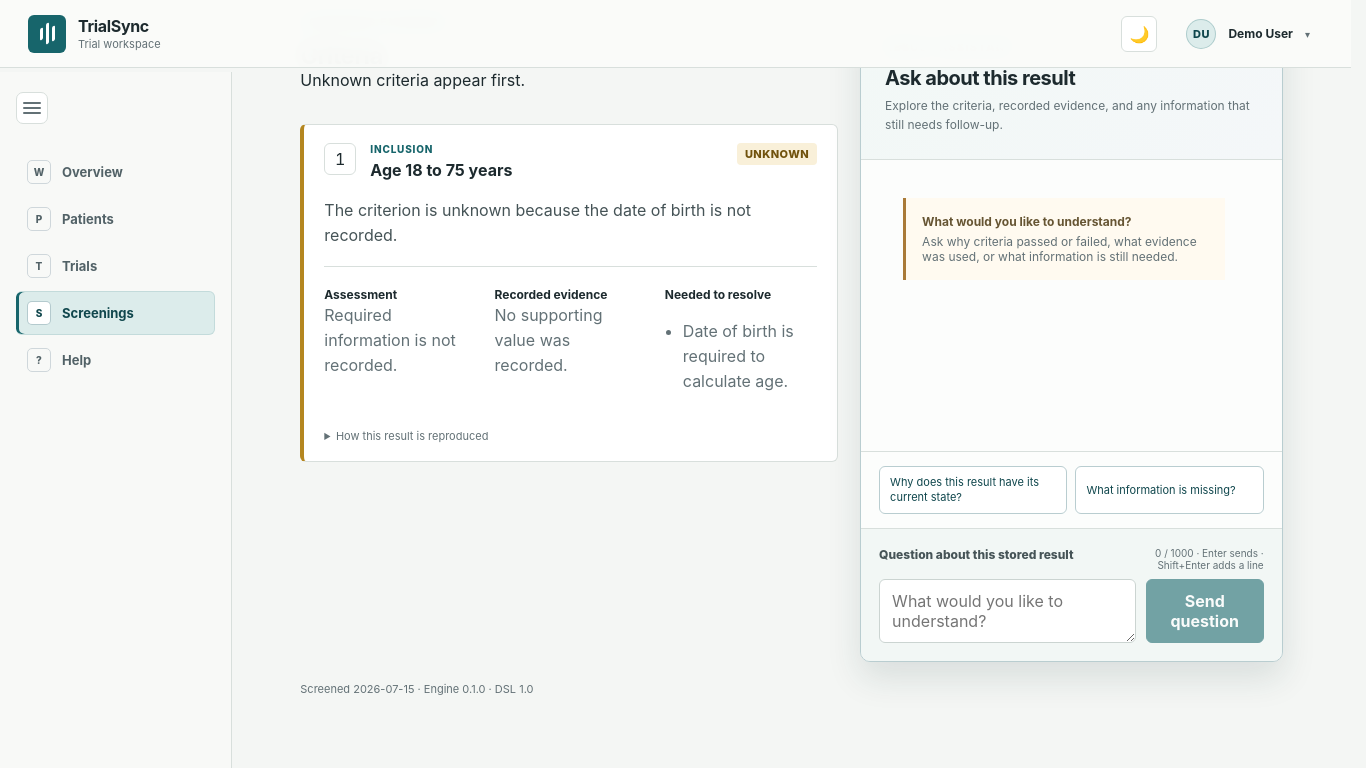
TrialSync Phase 5 screening workflow › preserves and explicitly retries a question after a confirmed no-save failure
(page scrolled)
Type "Explain the unknown criterion" into the text box labelled "Question about this stored result".
click(1007, 611); type("Explain the unknown criterion")  # box x1=879 y1=579 x2=1136 y2=643
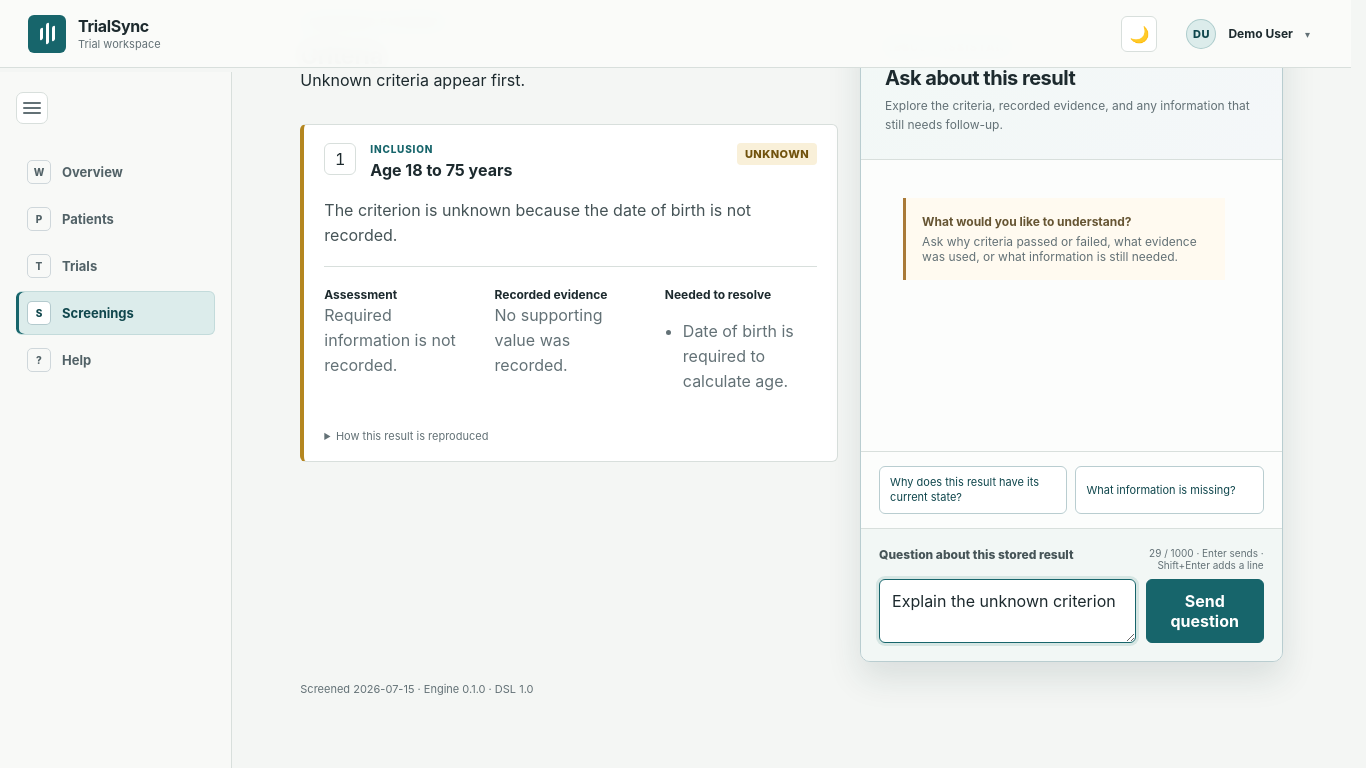
Click the button "Send question".
click(1205, 611)  # box x1=1146 y1=579 x2=1264 y2=643
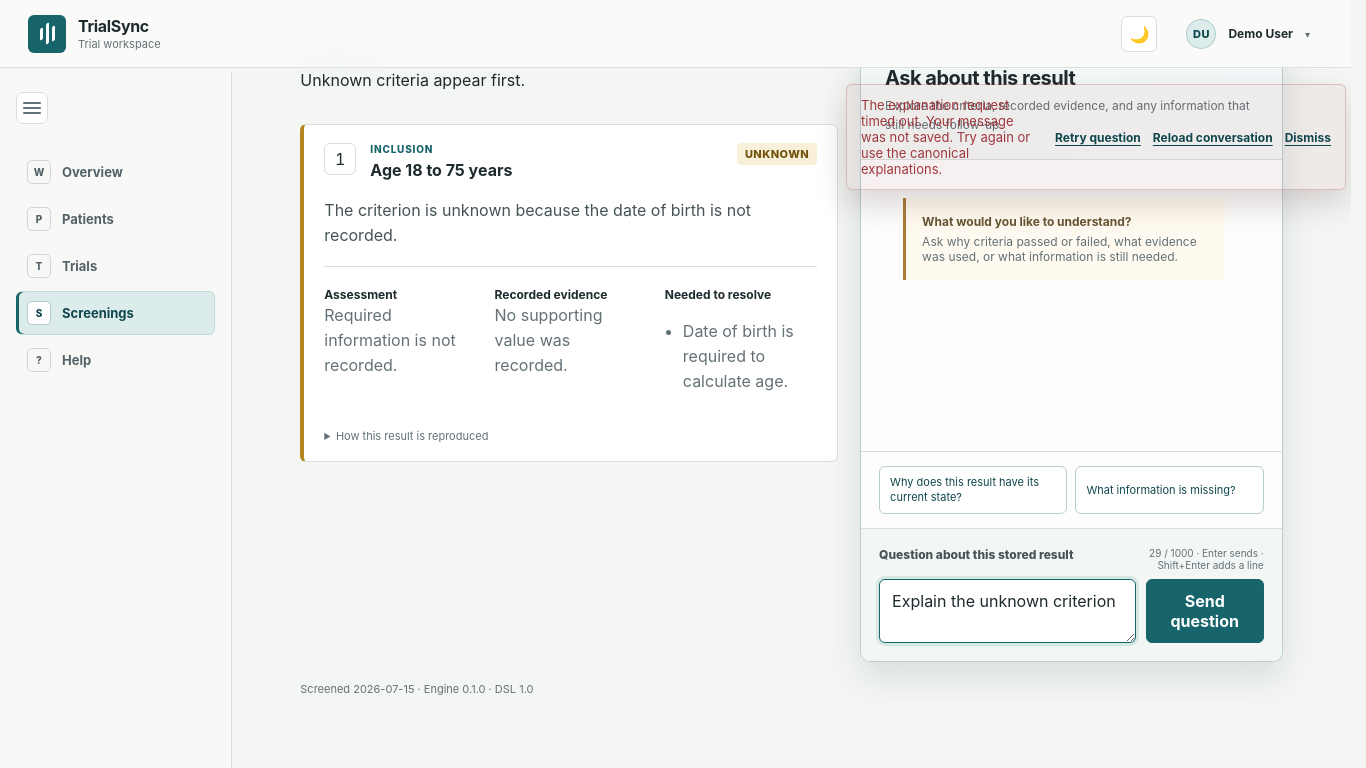
expect the message shows "timed out": met, box x1=861 y1=97 x2=1030 y2=177
Click the button "Retry question".
click(1098, 137)  # box x1=1055 y1=124 x2=1141 y2=150
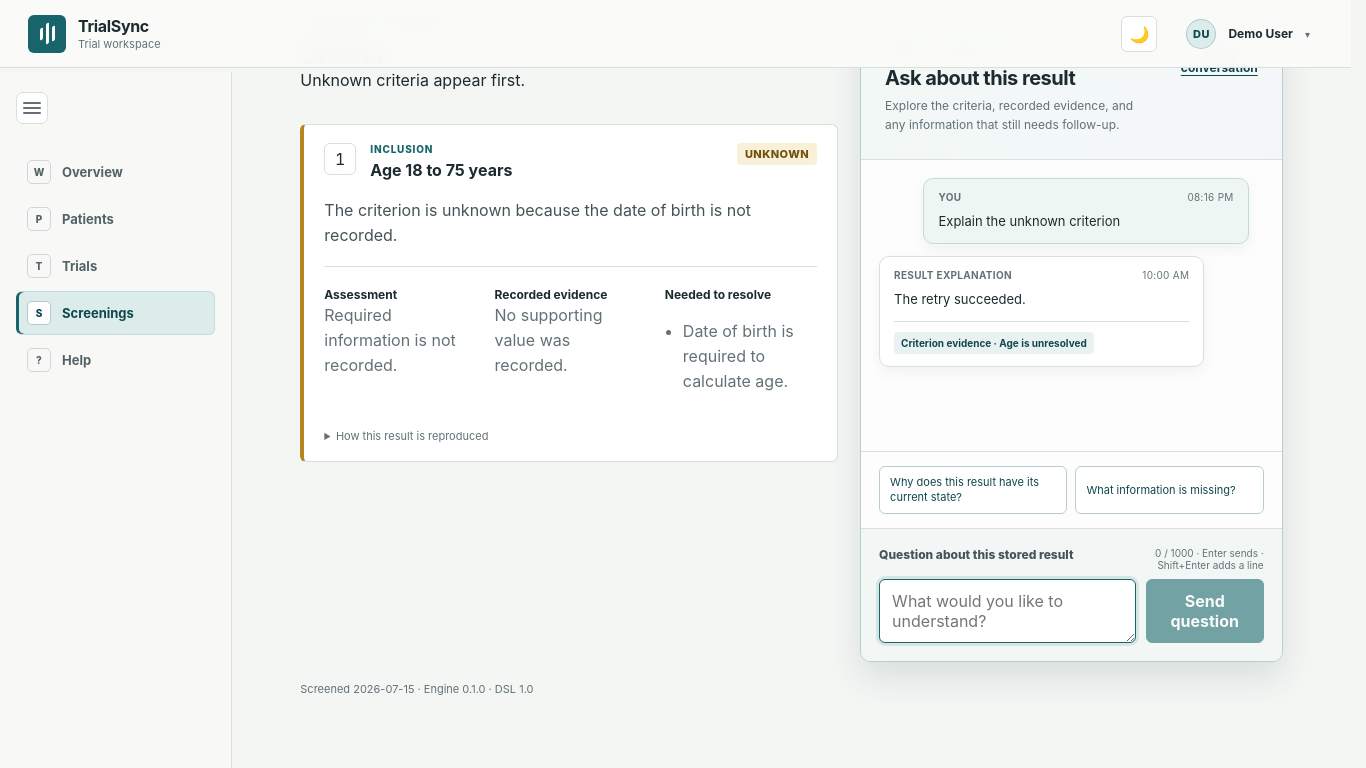
expect the text "The retry succeeded." is shown: met, box x1=894 y1=291 x2=1026 y2=307
